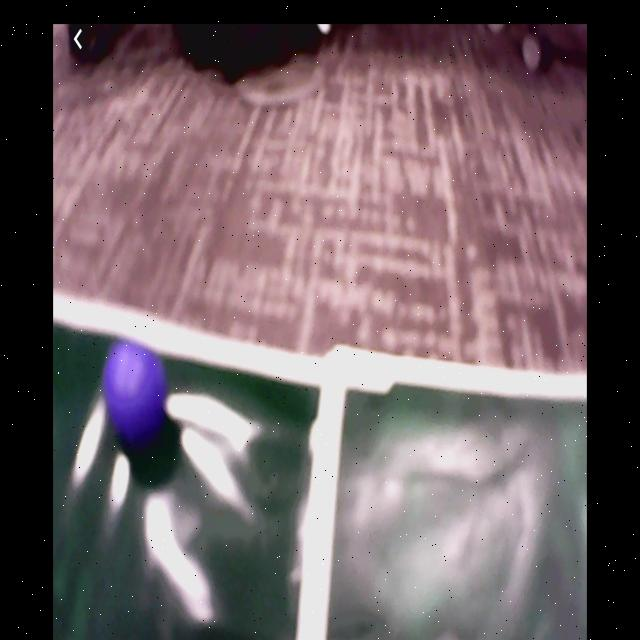ball: (105, 339, 166, 439)
